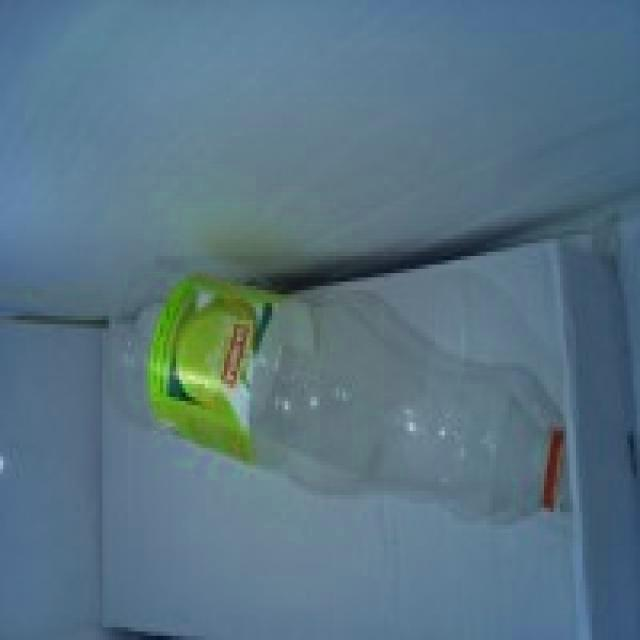bottle: (109, 272, 567, 525)
